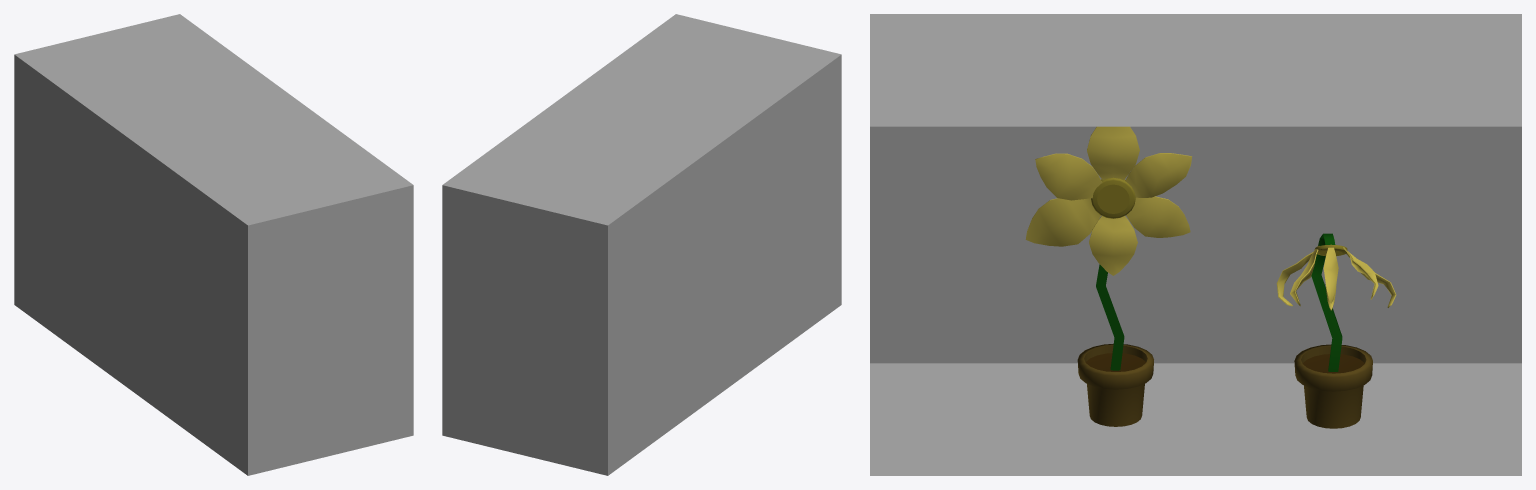
3 views of the same model, side by side, from view 1: azimuth 30°, elevation 25°; view 2: azimuth 150°, elevation 25°; view 3: azimuth 270°, elevation 25° (orthographic). The views are drawn at different scales.
Visible parts, largest first — view 1: pCube2; view 2: pCube2; view 3: pCube2, pCylinder2 (×2), pPlane6, pCube1 (×2), pPlane4, pPlane5, pPlane1, pPlane3, pPlane2, pCylinder1.
Boxes of the visible parts, x1,y1,x2,y2 form: pCube2: (14,14,413,475); pCube2: (442,14,841,475); pCube2: (870,14,1521,475); pCylinder2 (×2): (1077,344,1372,428); pPlane6: (1025,198,1100,246); pCube1 (×2): (1096,233,1342,371); pPlane4: (1087,126,1139,180); pPlane5: (1035,153,1102,200); pPlane1: (1089,216,1137,275); pPlane3: (1125,153,1192,197); pPlane2: (1126,196,1190,237); pCylinder1: (1091,177,1135,218).
Size of the model in its own units: 1.54 by 2.23 by 3.76.
